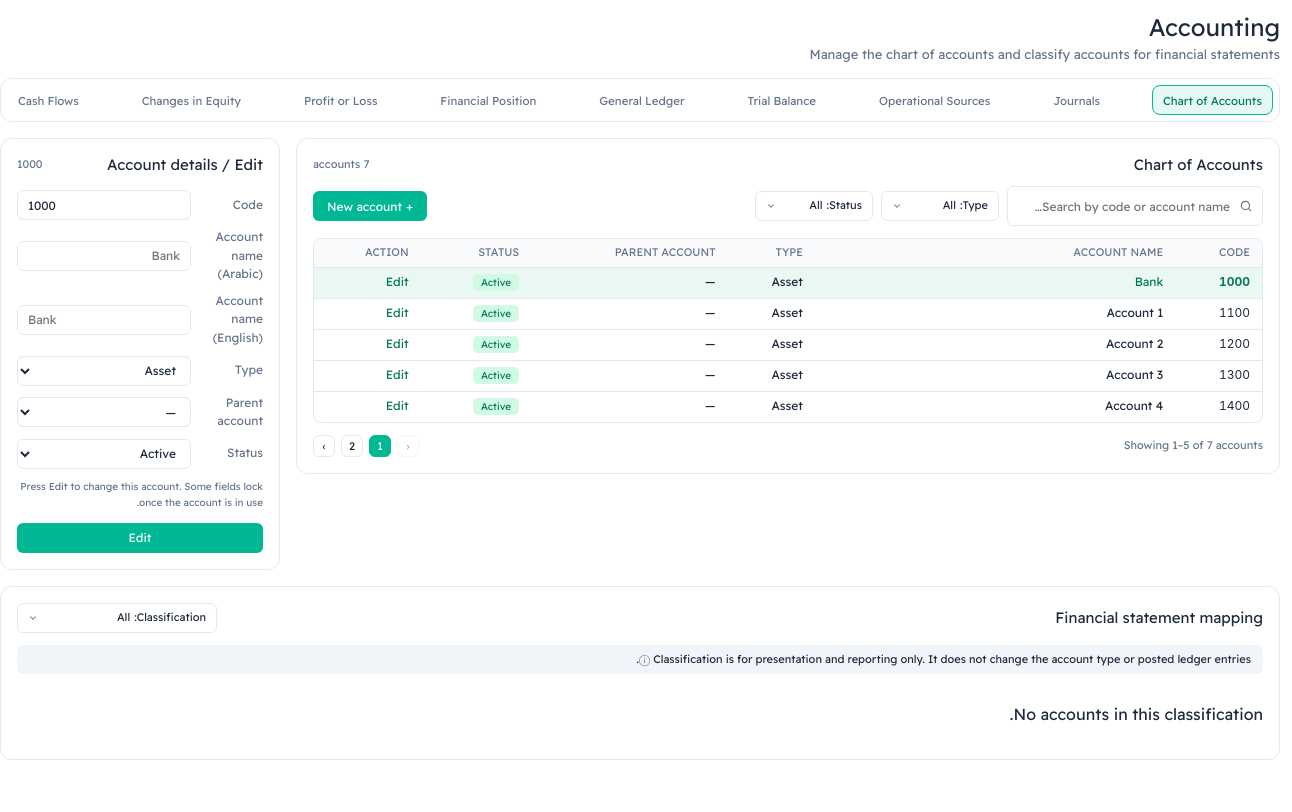
Scenario: Accounting chart-of-accounts workspace › shows the account read-only until Edit is pressed and hides Edit without the capability
Expected: the text "Bank" is shown, [815,267,1175,298]
Expected: the field labelled "Code" is disabled, [17,190,191,220]
Click the button "Edit" below "Account name (English)": (140,538) [17,523,263,553]
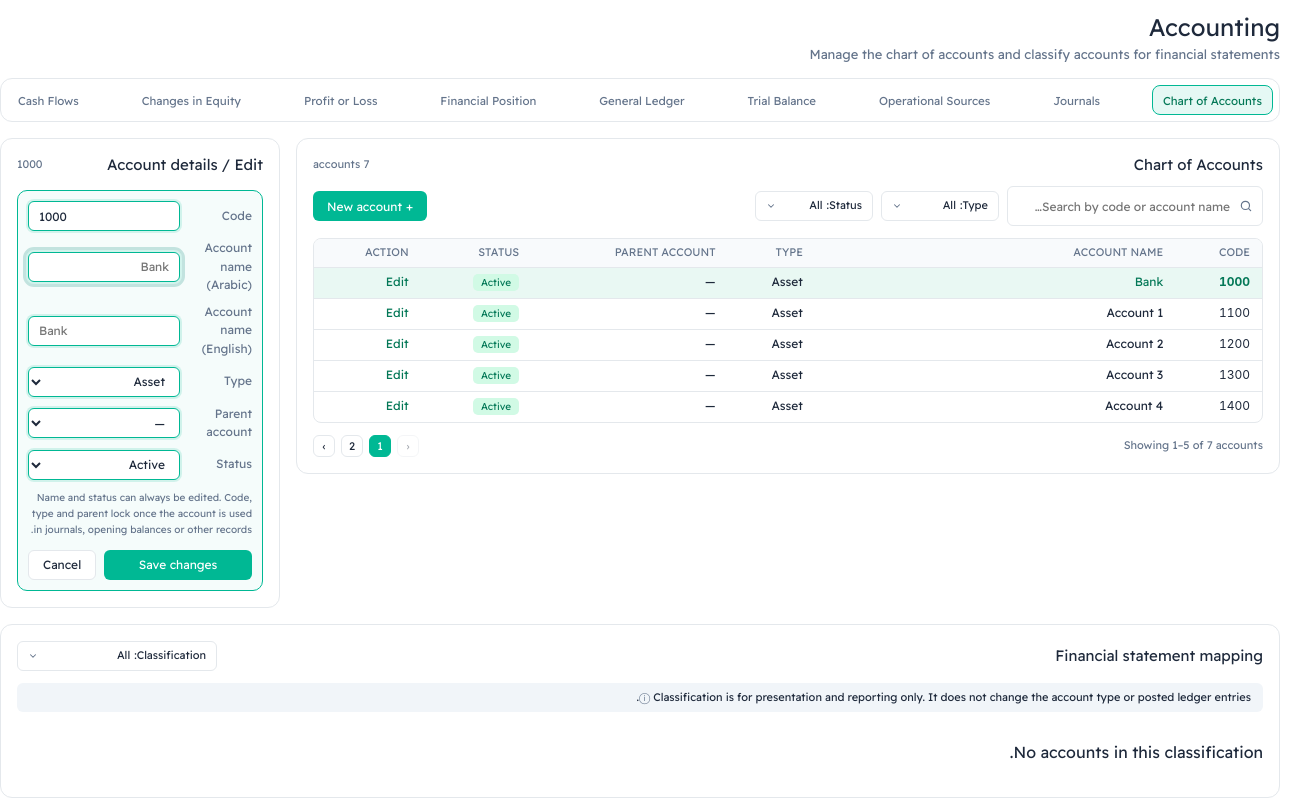
Expected: the button "Save changes" is enabled, [104,550,252,580]
Click the button "Cancel": (62,565) [28,550,96,580]
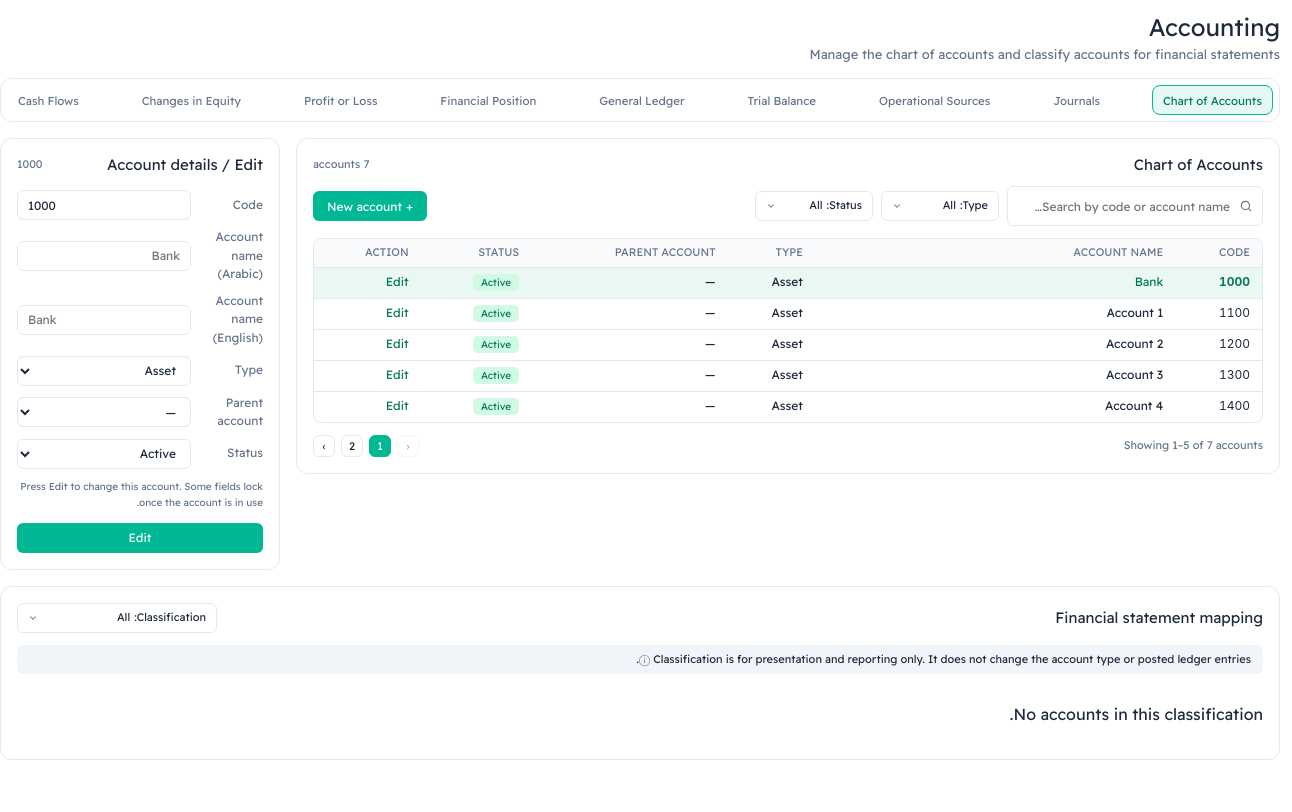
Now the button "Edit" below "Account name (English)" is shown, box [17,523,263,553]
